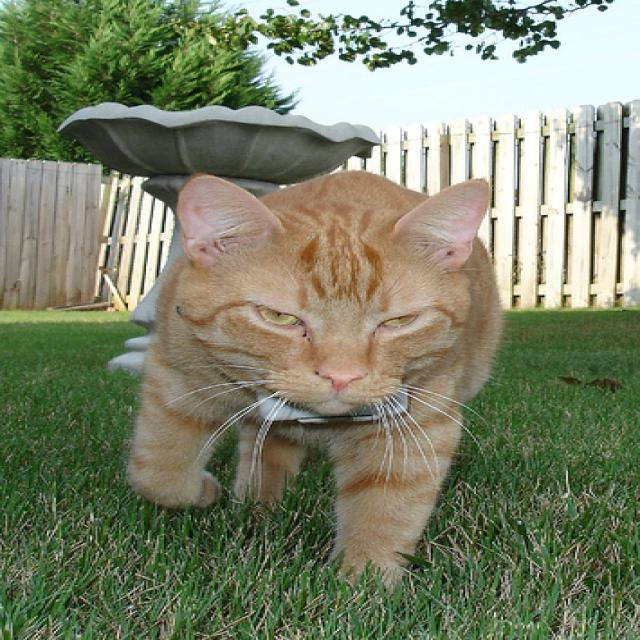cat: (125, 169, 504, 595)
